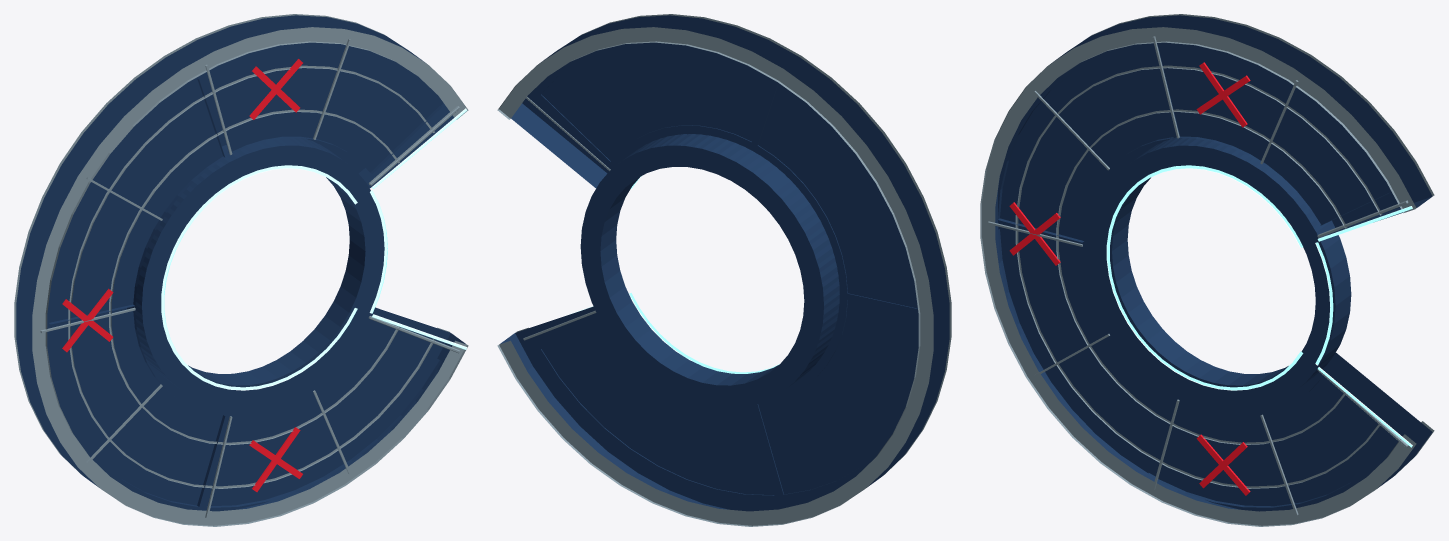
The model's file is foundry-panel-fun4-medium.glb.
3 renders of one model, left to right at view 1: azimuth 30°, elevation 25°; view 2: azimuth 150°, elevation 25°; view 3: azimuth 330°, elevation 25°, orthographic.
Parts seen in each view (by area): view 1: RENDER_PANEL_SHELL, RENDER_PANEL_FRAME, RENDER_PANEL_SIGNAL, RENDER_PANEL_HAZARD; view 2: RENDER_PANEL_SHELL, RENDER_PANEL_FRAME, RENDER_PANEL_SIGNAL; view 3: RENDER_PANEL_SHELL, RENDER_PANEL_FRAME, RENDER_PANEL_SIGNAL, RENDER_PANEL_HAZARD.
Boxes of the visible parts, <box> form: RENDER_PANEL_SHELL: <box>16,15,465,511</box>; RENDER_PANEL_FRAME: <box>14,14,468,526</box>; RENDER_PANEL_SIGNAL: <box>161,108,467,390</box>; RENDER_PANEL_HAZARD: <box>62,59,302,492</box>; RENDER_PANEL_SHELL: <box>500,15,949,511</box>; RENDER_PANEL_FRAME: <box>497,14,951,526</box>; RENDER_PANEL_SIGNAL: <box>570,176,779,373</box>; RENDER_PANEL_SHELL: <box>995,15,1432,511</box>; RENDER_PANEL_FRAME: <box>980,14,1434,526</box>; RENDER_PANEL_SIGNAL: <box>1106,165,1412,447</box>; RENDER_PANEL_HAZARD: <box>1009,62,1250,495</box>.
Size of what is drawn, in the model's own units: 38.39 by 40.91 by 3.09.
